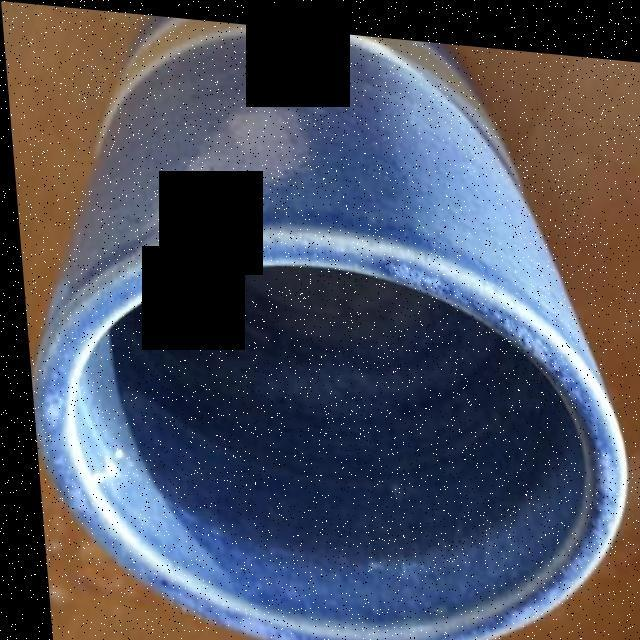water: (94, 261, 555, 528)
